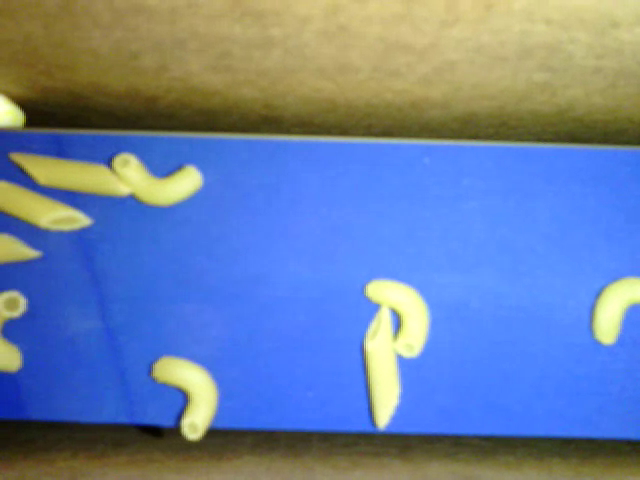elbow: (150, 354, 220, 439), (363, 277, 432, 358), (110, 150, 204, 206), (592, 275, 639, 346), (1, 289, 29, 374)
penne: (9, 153, 130, 197), (362, 304, 402, 428), (1, 179, 93, 232), (1, 231, 43, 263)
